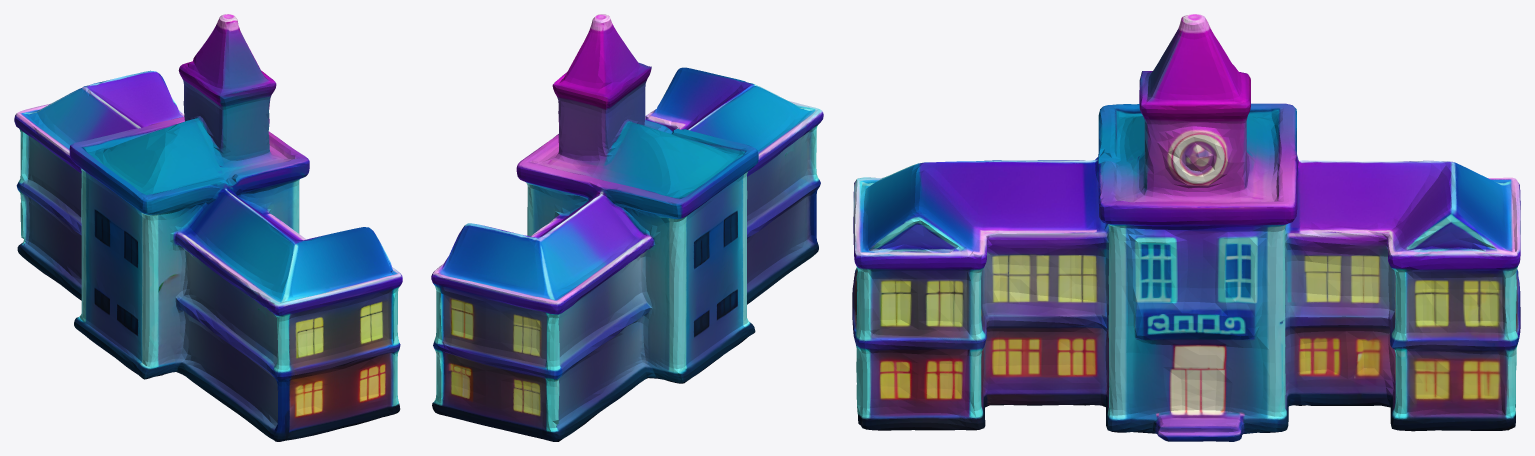
Rendered from scc.glb.
The picture shows the model from 3 angles, left to right: view 1: azimuth 30°, elevation 25°; view 2: azimuth 150°, elevation 25°; view 3: azimuth 270°, elevation 25°; orthographic projection. The views are drawn at different scales.
Visible parts, largest first — view 1: tripo_node_4d87a793-e693-4203-ba90-07b288231a0b; view 2: tripo_node_4d87a793-e693-4203-ba90-07b288231a0b; view 3: tripo_node_4d87a793-e693-4203-ba90-07b288231a0b.
Boxes of the visible parts, box(x1,y1,x2,y2) form: tripo_node_4d87a793-e693-4203-ba90-07b288231a0b: box(14, 14, 402, 441); tripo_node_4d87a793-e693-4203-ba90-07b288231a0b: box(431, 14, 823, 441); tripo_node_4d87a793-e693-4203-ba90-07b288231a0b: box(852, 14, 1520, 441).
Bounding box in the file's own units: 0.304 × 0.4955 × 0.7692.
Materials: 1 (1 with a texture image).
